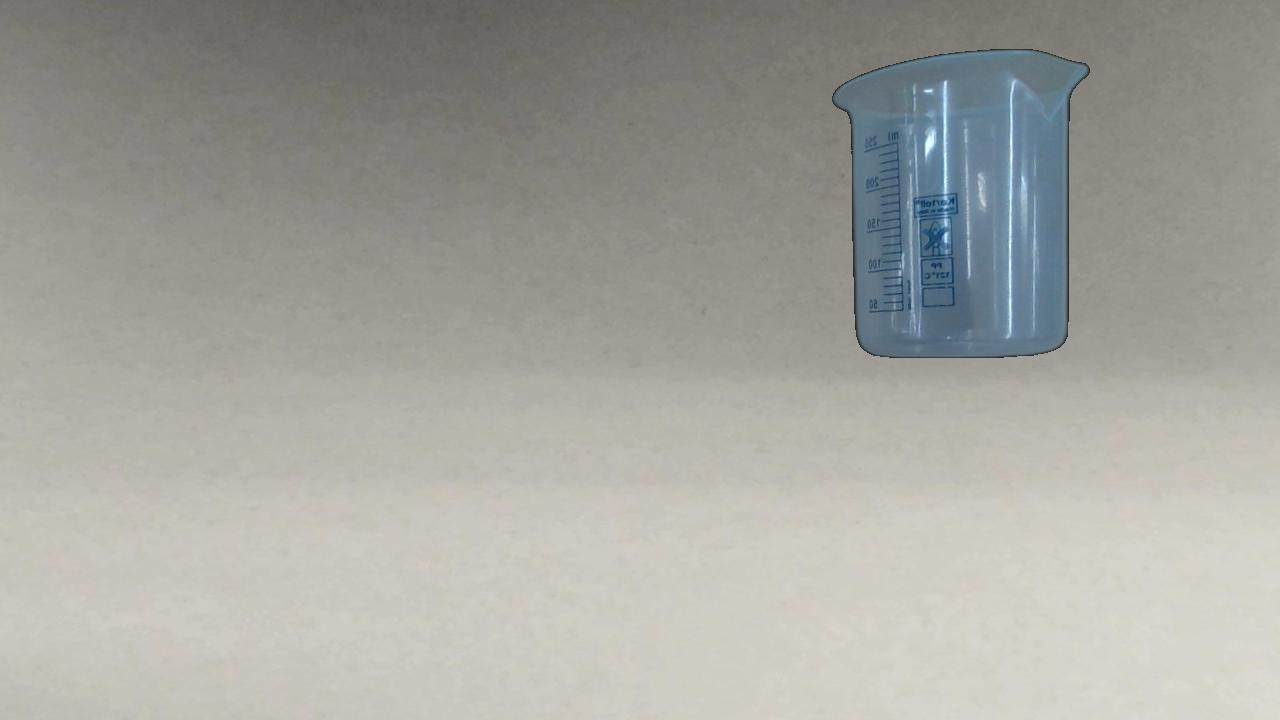becker: (830, 48, 1089, 359)
